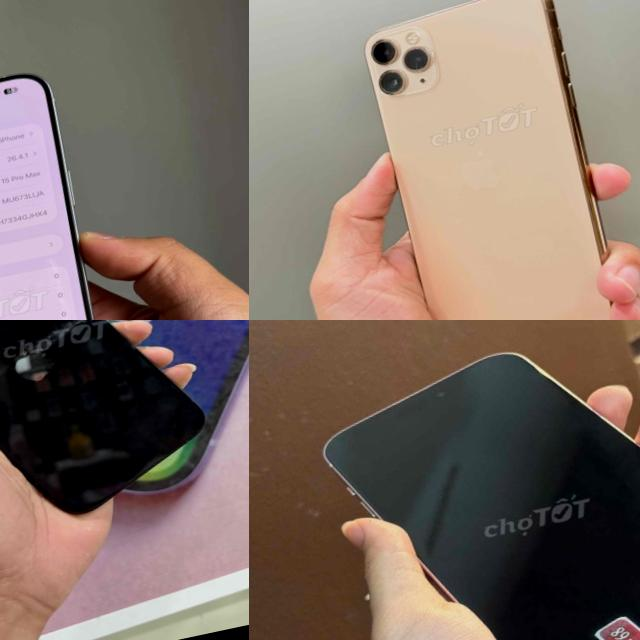gen_11: (336, 0, 640, 320)
gen_12_13: (0, 320, 221, 551)
gen_15: (281, 320, 640, 640), (0, 49, 130, 320)
